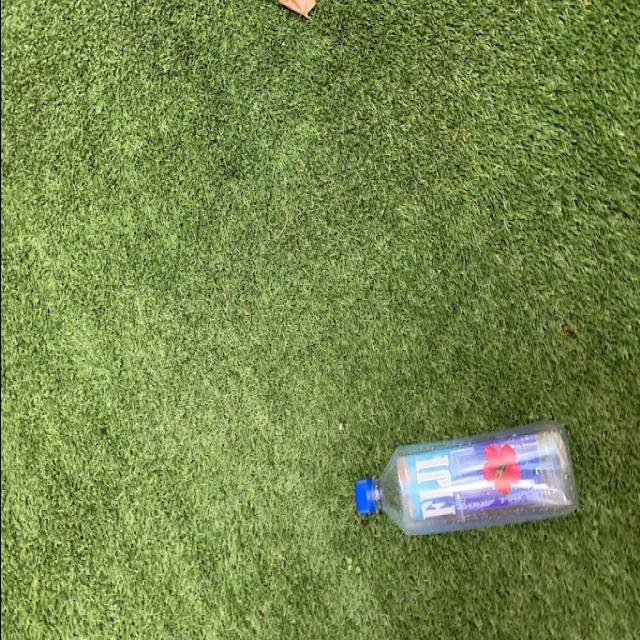PET: (350, 422, 574, 542)
